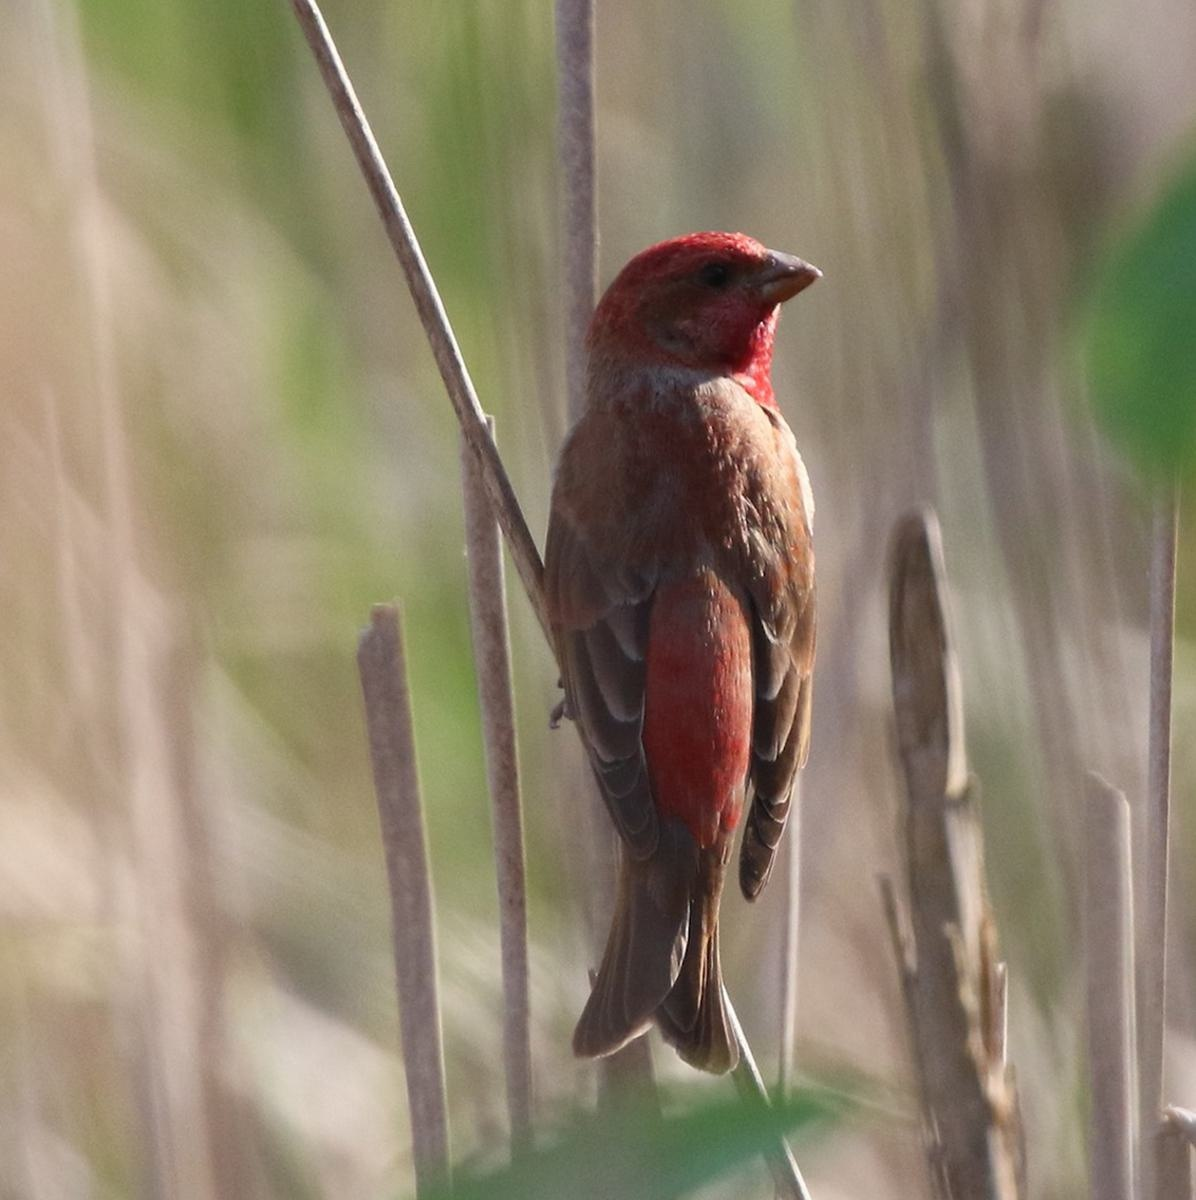rosefinch: (537, 196, 876, 1022)
